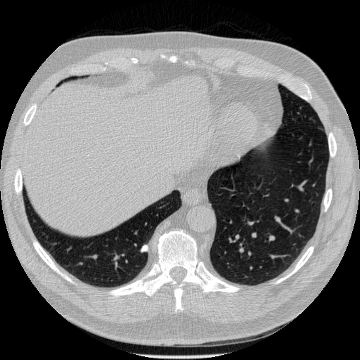nodule: (140, 244, 148, 252)
